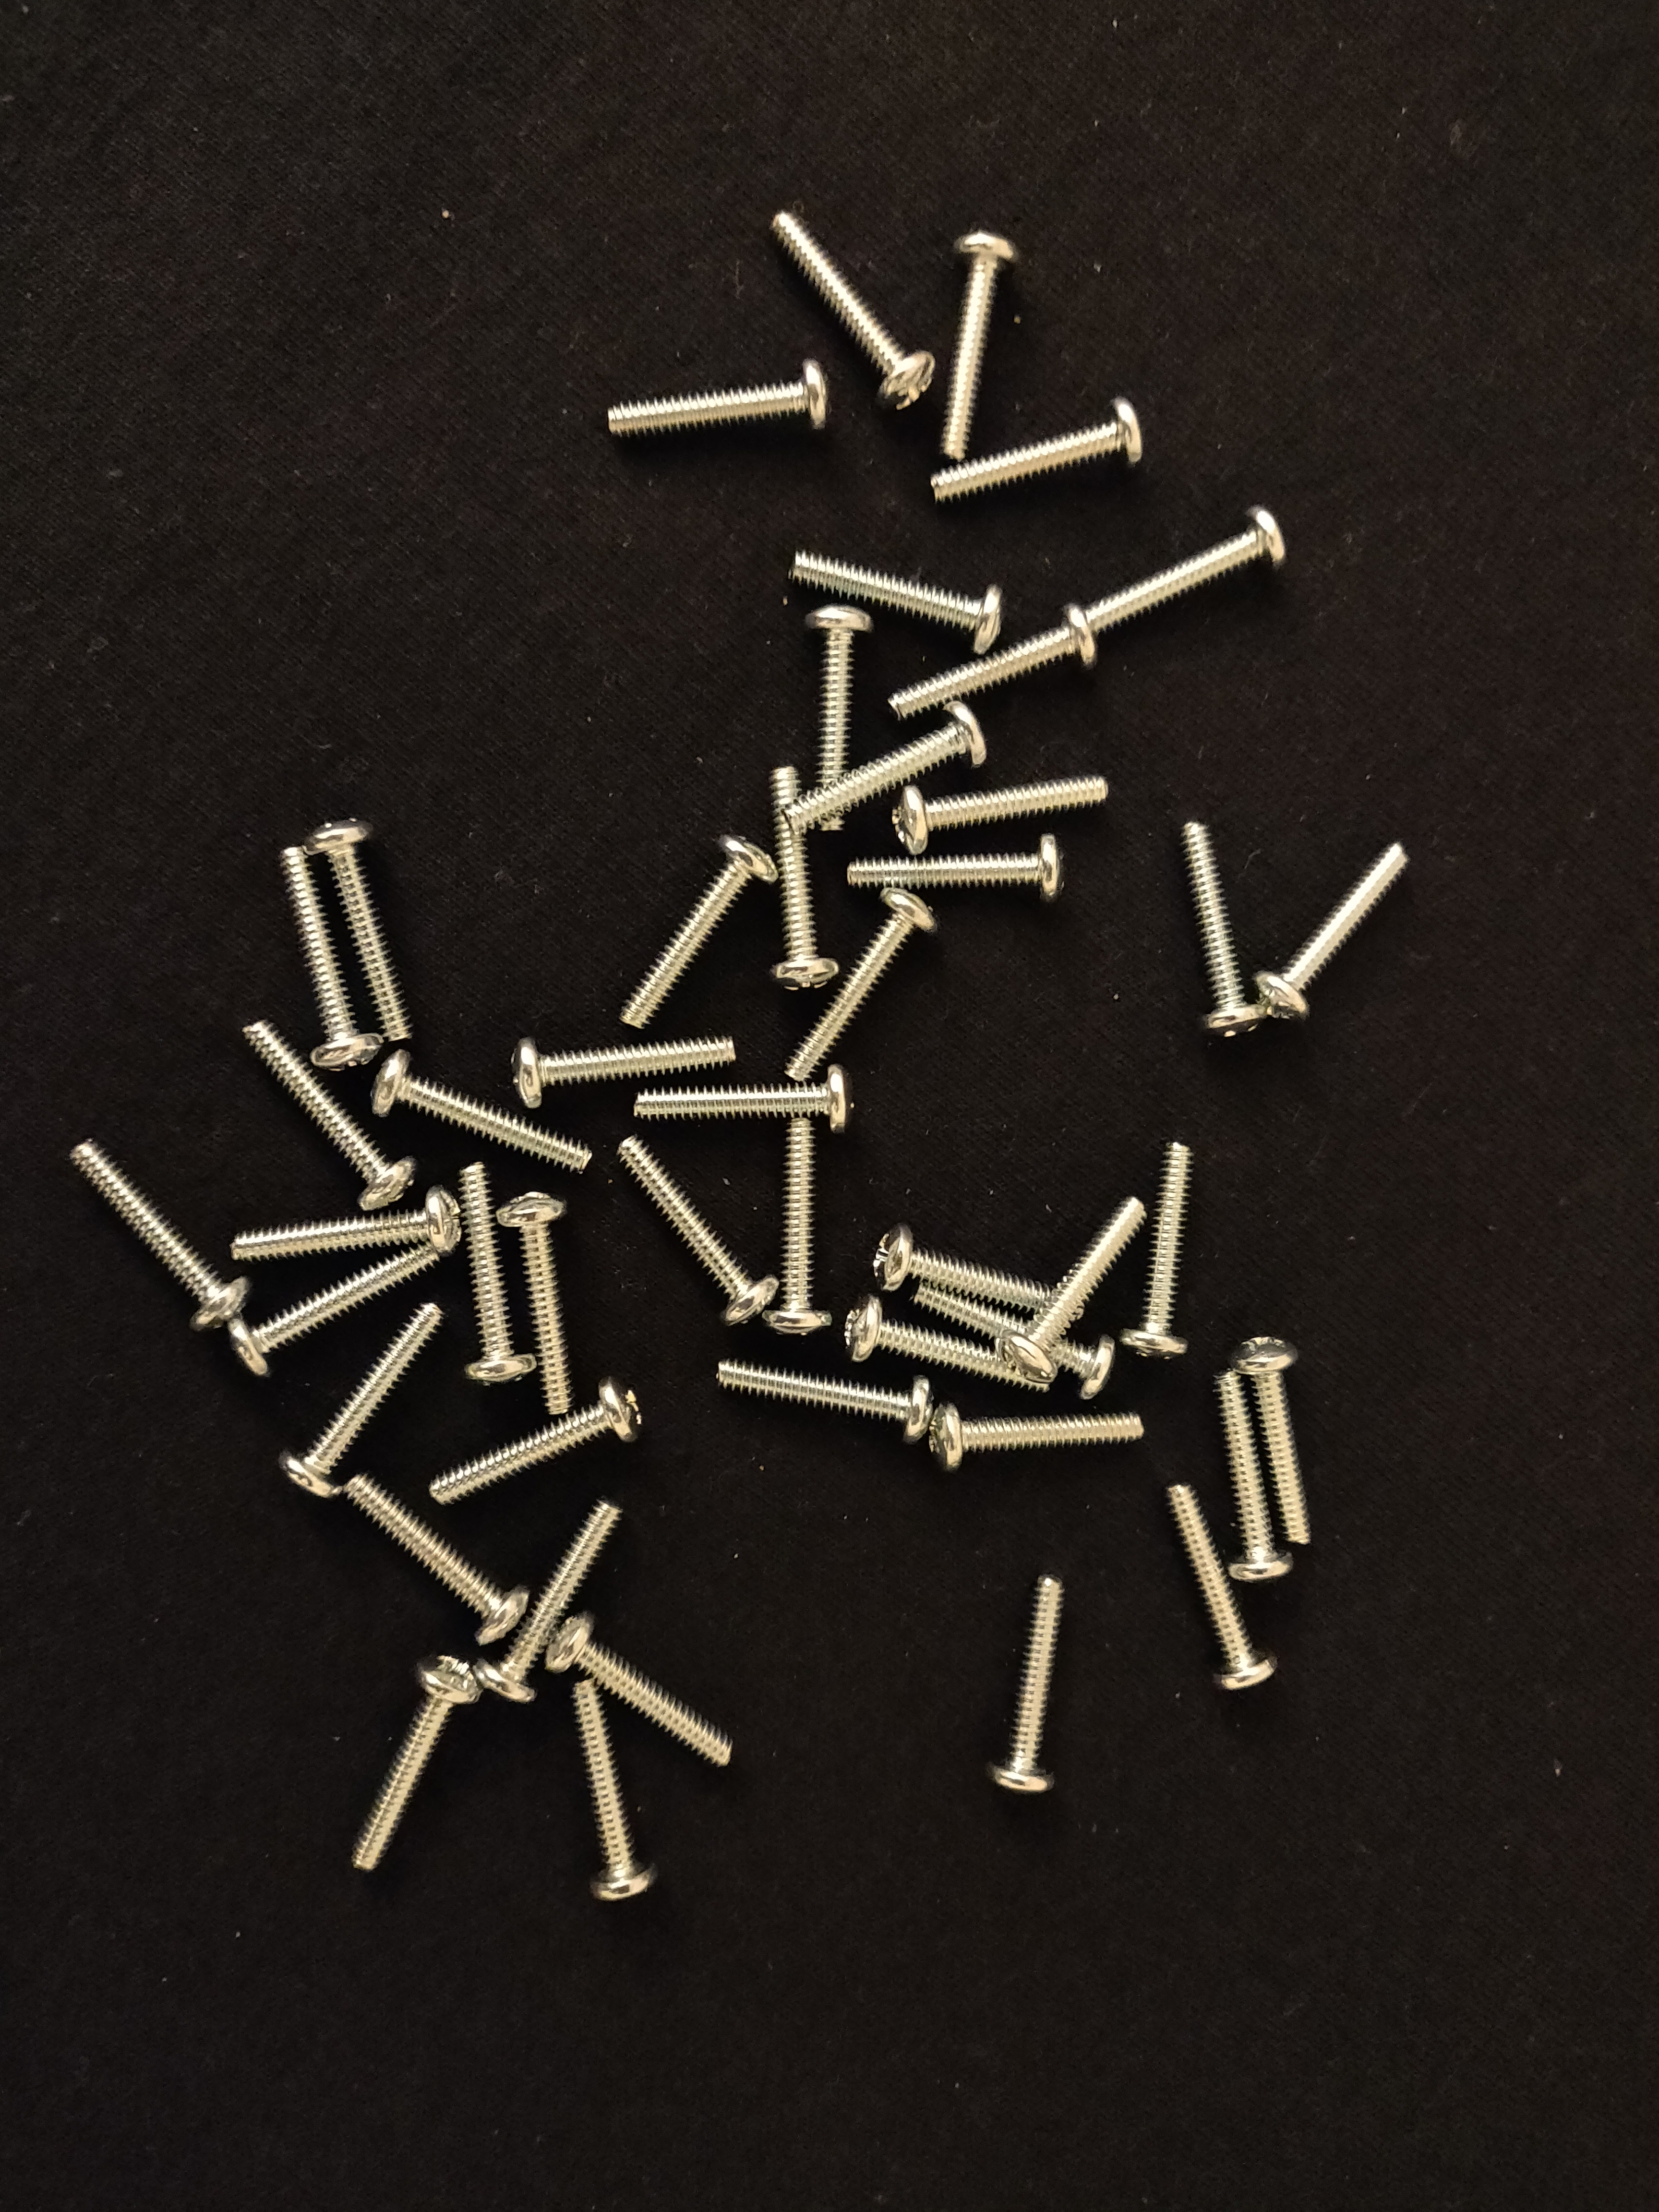longscrew: (54, 1129, 247, 1331), (335, 1458, 532, 1651), (277, 1294, 451, 1501), (762, 204, 934, 411), (237, 1017, 416, 1211), (612, 1123, 781, 1327), (615, 826, 781, 1033), (781, 880, 941, 1087), (474, 1491, 631, 1700), (340, 1648, 477, 1878), (1253, 831, 1415, 1024), (540, 1609, 739, 1766), (223, 1237, 446, 1376), (993, 1184, 1148, 1383), (364, 1043, 599, 1172), (423, 1374, 640, 1512), (779, 695, 992, 834), (1073, 500, 1291, 634), (267, 834, 383, 1083), (1152, 1470, 1276, 1703), (300, 812, 420, 1045), (903, 1270, 1112, 1399), (922, 388, 1152, 503), (887, 597, 1098, 718), (779, 542, 1009, 648), (978, 1561, 1080, 1797), (1173, 815, 1277, 1047), (845, 1291, 1060, 1402), (706, 1343, 939, 1442), (599, 348, 833, 448), (561, 1665, 652, 1909), (450, 1155, 544, 1386), (502, 1026, 746, 1115), (934, 223, 1023, 465), (1204, 1357, 1295, 1590), (1227, 1327, 1319, 1554), (885, 763, 1117, 852), (866, 1216, 1068, 1315), (228, 1183, 465, 1266), (760, 761, 843, 998), (1114, 1136, 1199, 1362), (493, 1186, 579, 1413), (751, 1111, 833, 1338), (842, 826, 1068, 907), (922, 1399, 1150, 1479), (795, 596, 870, 838), (631, 1057, 857, 1130)
